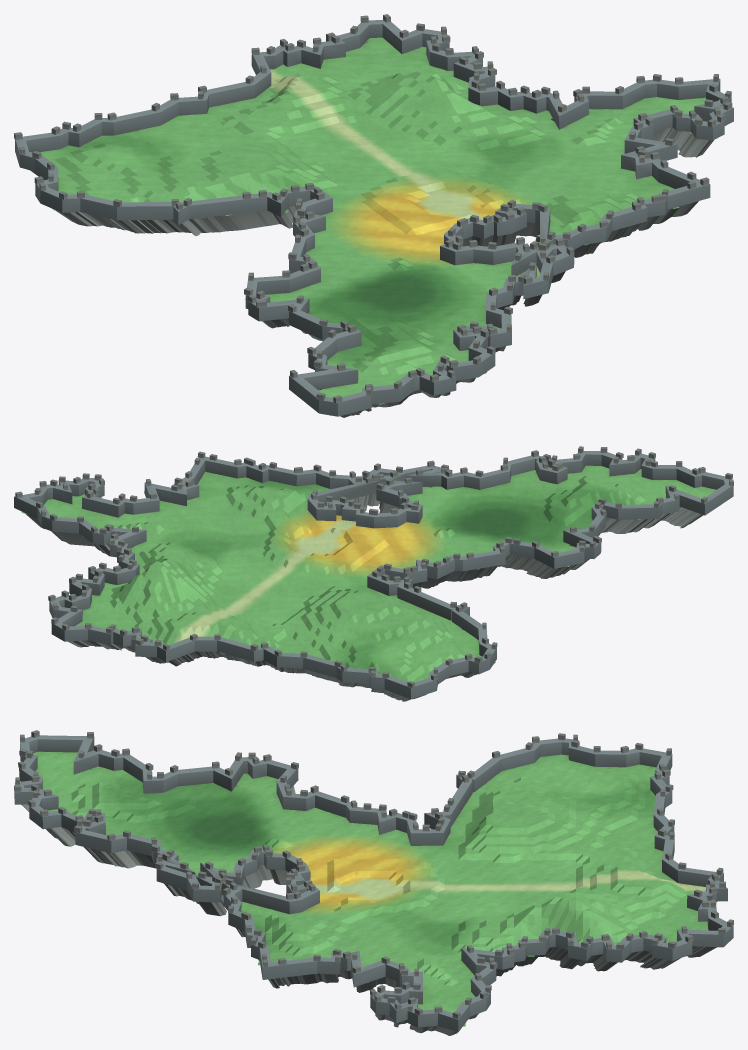
3 views of the same model, one above another, from view 1: azimuth 30°, elevation 25°; view 2: azimuth 150°, elevation 25°; view 3: azimuth 270°, elevation 25° (orthographic). The views are drawn at different scales.
Parts seen in each view (by area): view 1: ground_b2514c10; view 2: ground_b2514c10; view 3: ground_b2514c10.
Part boxes in pixels (x1,y1,x2,y2): ground_b2514c10: (14,14,733,417); ground_b2514c10: (14,446,733,701); ground_b2514c10: (14,730,733,1035).
Size of the model in its own units: 146 by 10.84 by 156.
Materials: 2 (1 with a texture image).
